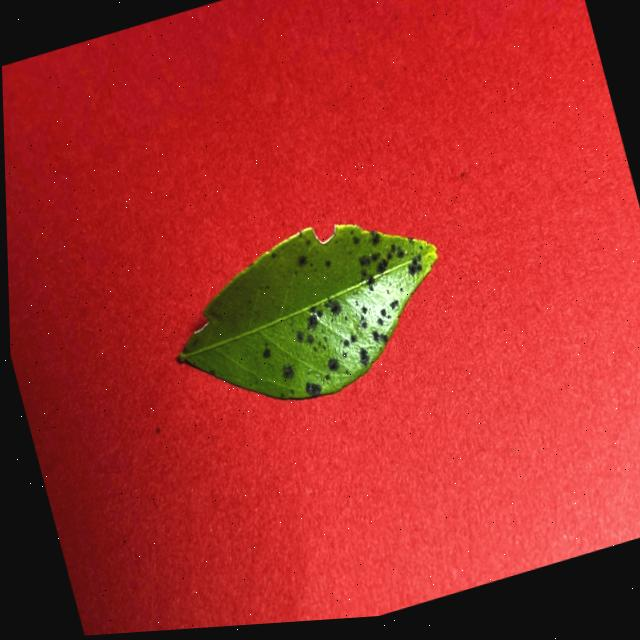sooty_mold: (178, 224, 436, 398)
